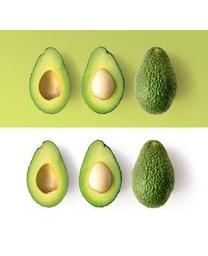avocado: (132, 46, 178, 115), (78, 140, 124, 208), (131, 142, 176, 209), (28, 47, 72, 115), (81, 46, 125, 114), (26, 140, 69, 209)
